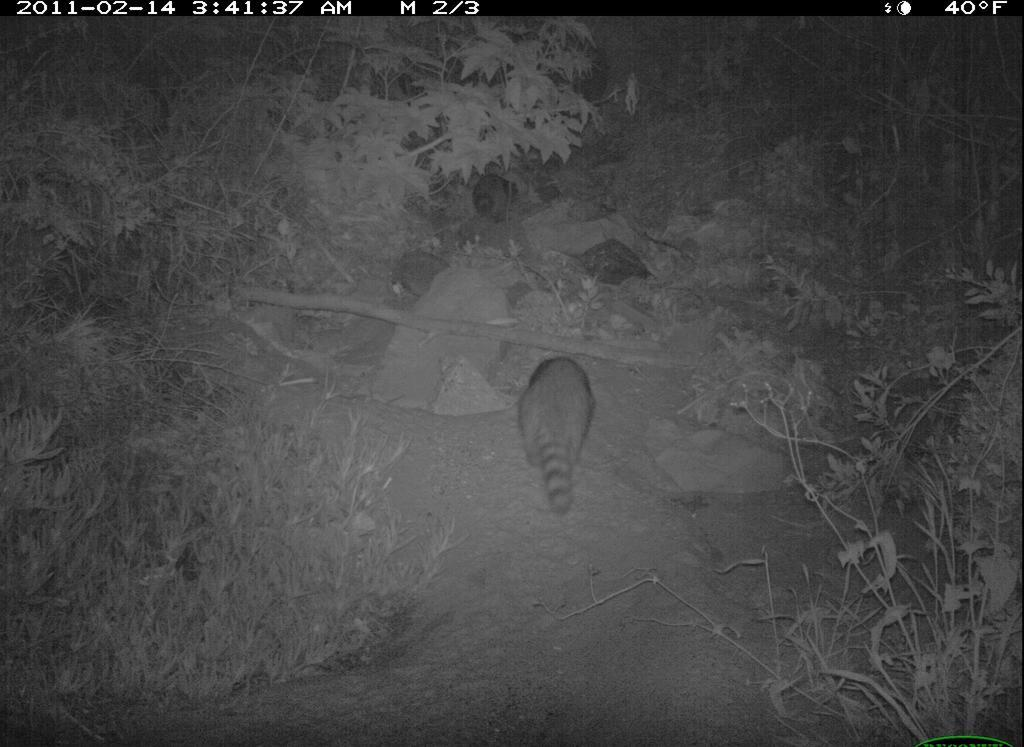raccoon: (511, 346, 598, 525)
